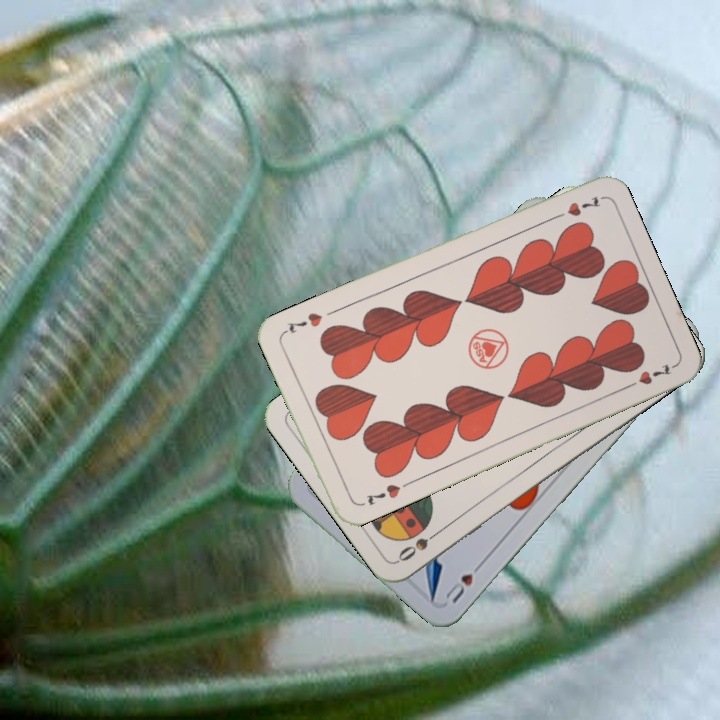H7: (548, 192, 604, 223), (361, 480, 403, 508)
HU: (441, 557, 487, 606)
SO: (393, 524, 446, 565)
